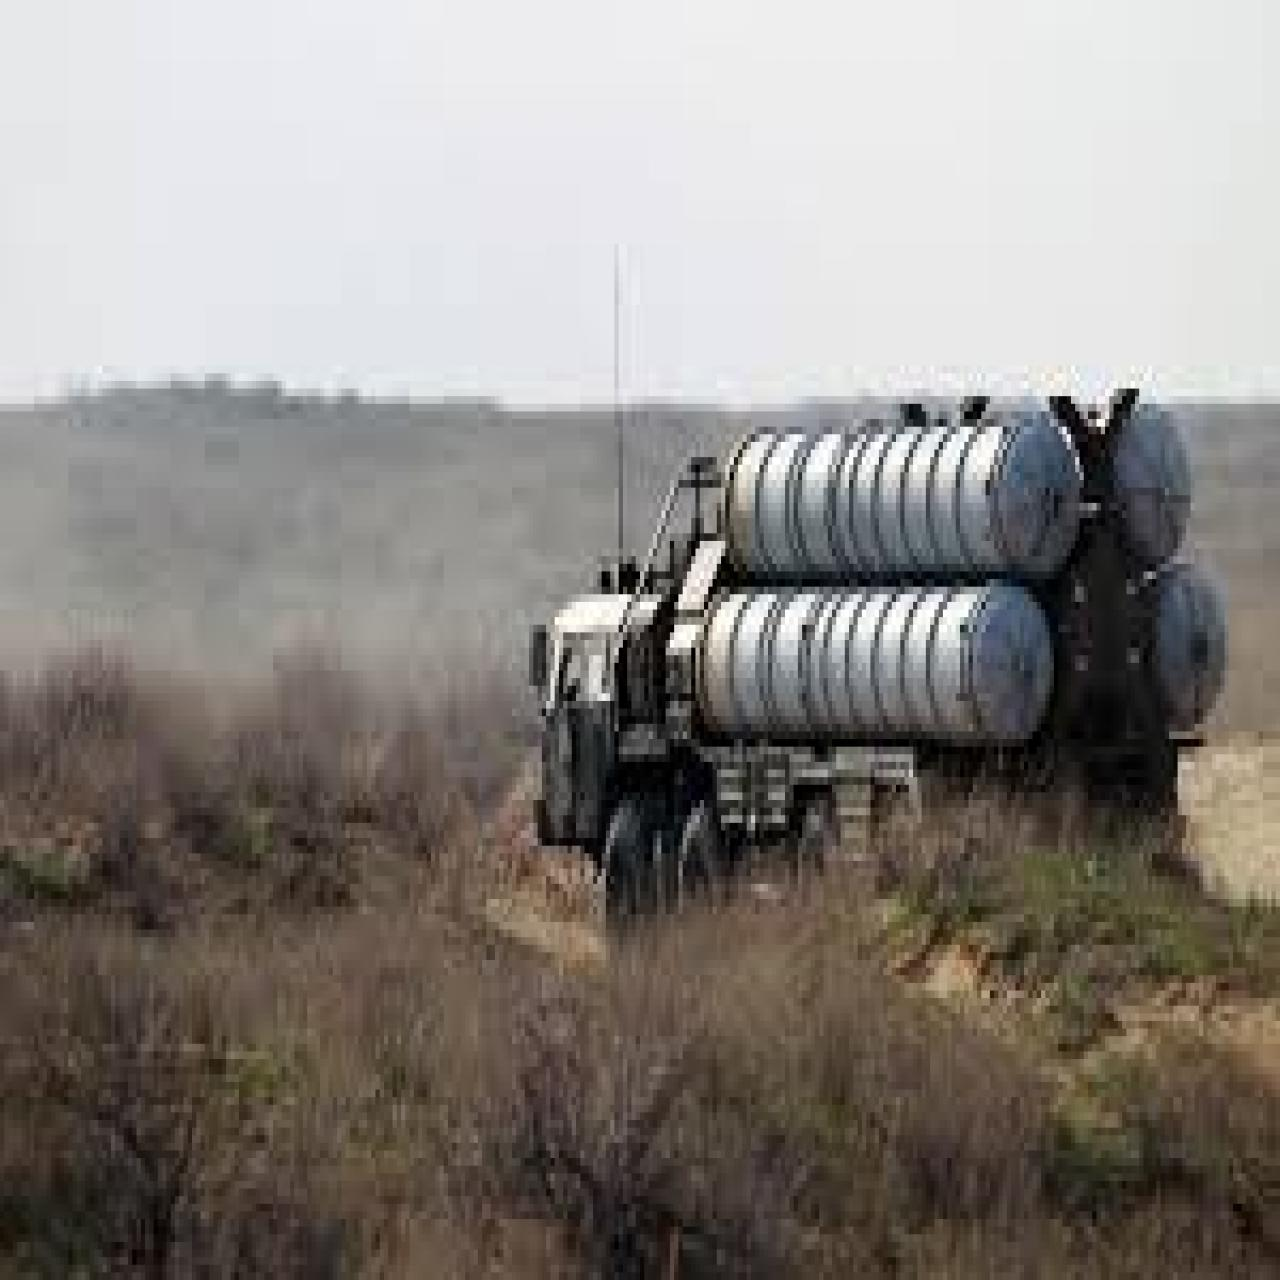MIL_Veh: (537, 399, 1230, 960)
